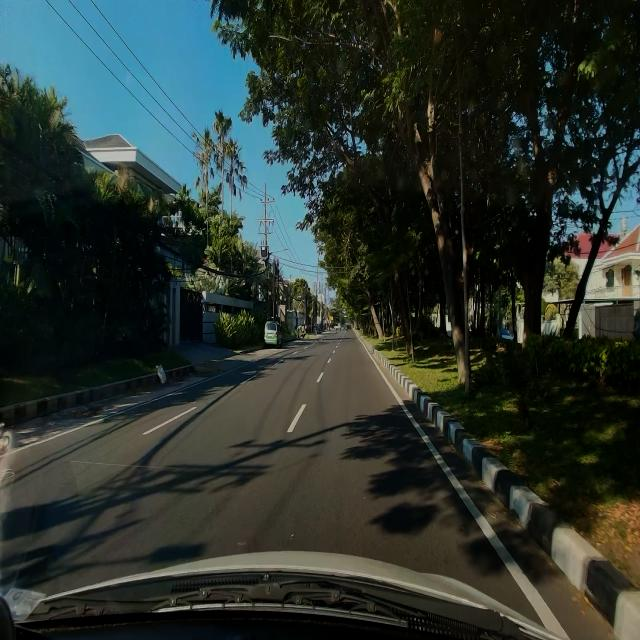car: (263, 320, 283, 348)
